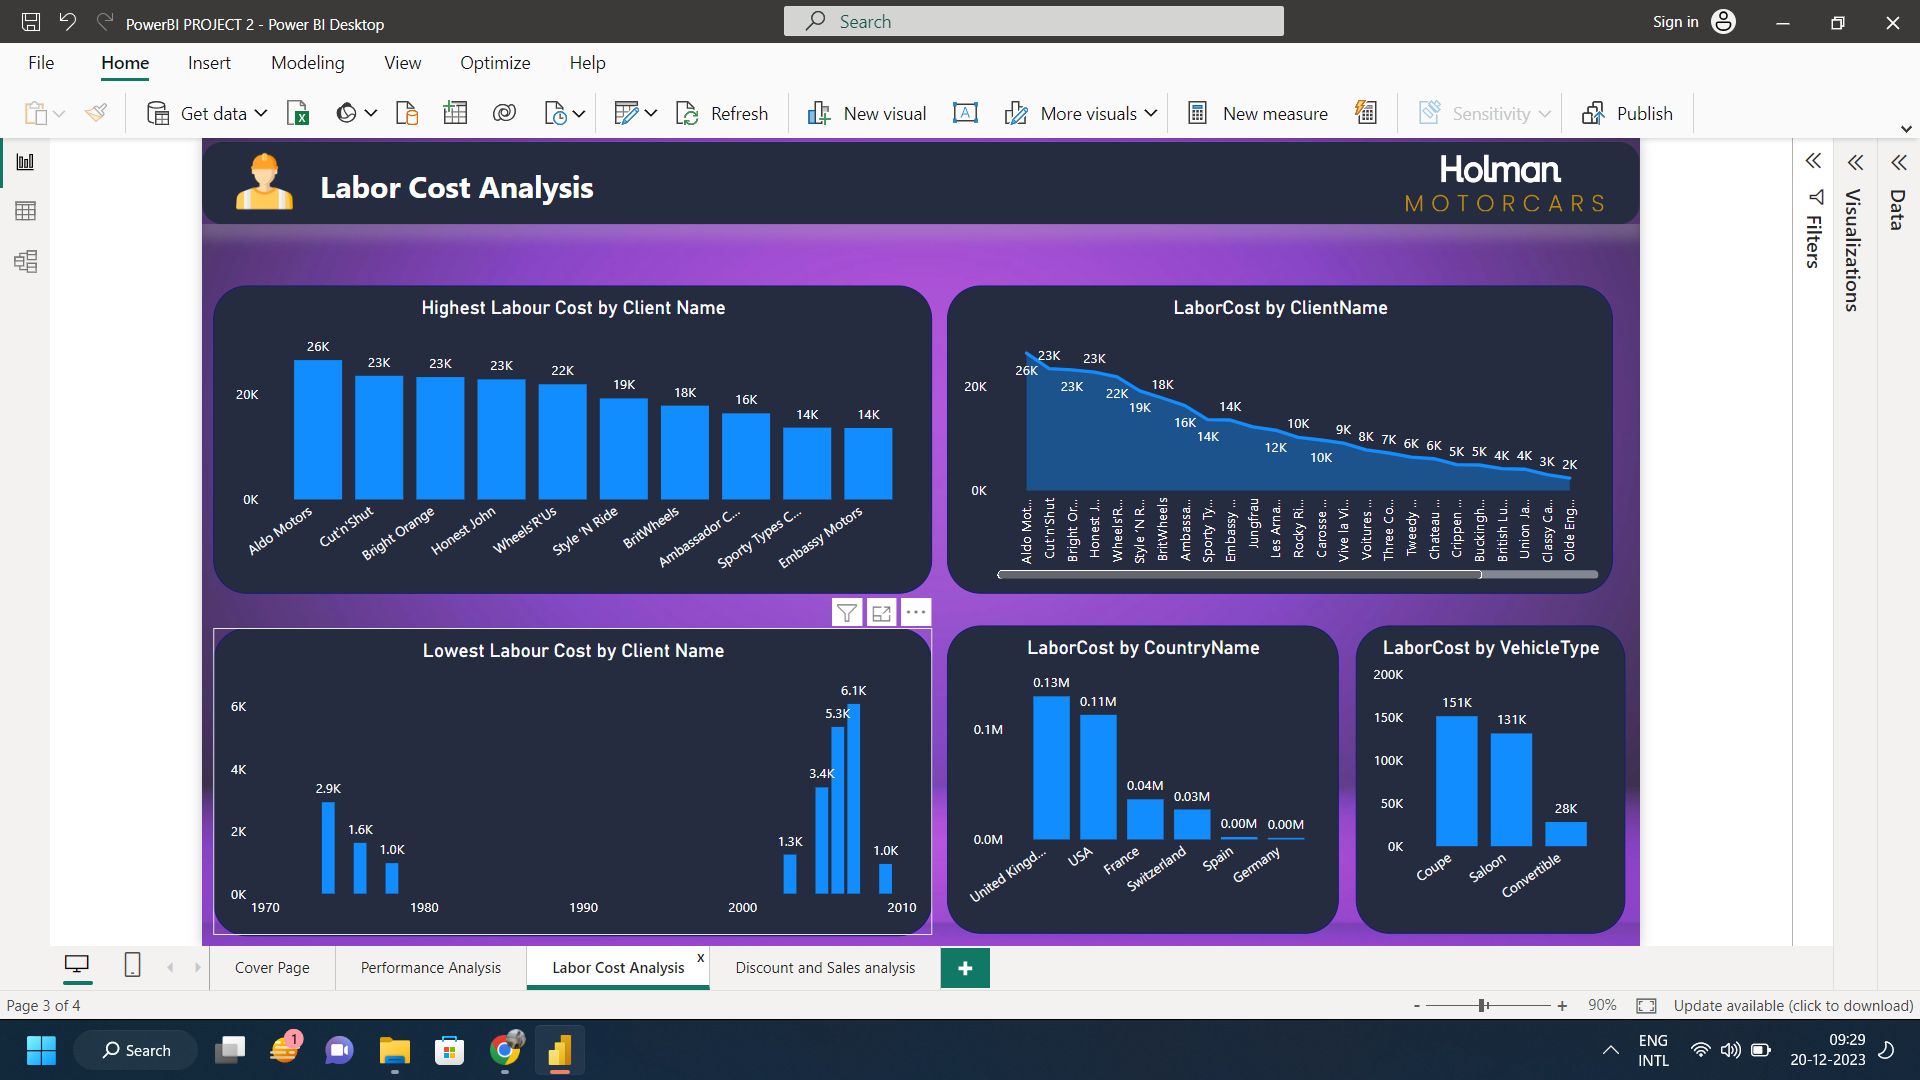

Layout of this report page (visuals, bound fields, positions):
{"tool":"powerbi","page":{"name":"Labor Cost Analysis","canvas":[1280,720],"ordinal":2},"visuals":[{"type":"clusteredColumnChart","title":"Lowest Labour Cost by Client Name","fields":{"Y":["Sum(BaseData.LaborCost)"],"Category":["BaseData.Registration_Date.Variation.Date Hierarchy.Year"]},"box":[10,435.7,640,274.3],"z":0},{"type":"shape","box":[0,3.8,1280,73.8],"z":1000},{"type":"areaChart","fields":{"Y":["Sum(BaseData.LaborCost)"],"Category":["BaseData.ClientName"]},"box":[662.9,131.4,592.9,274.3],"z":2000},{"type":"clusteredColumnChart","title":"Highest Labour Cost by Client Name","fields":{"Category":["BaseData.ClientName"],"Y":["Sum(BaseData.LaborCost)"]},"box":[10,131.4,640,274.3],"z":3000},{"type":"columnChart","fields":{"Category":["BaseData.CountryName"],"Y":["Sum(BaseData.LaborCost)"]},"box":[662.9,434.3,348.6,274.3],"z":4000},{"type":"image","box":[25.7,4.3,60,68.6],"z":5000},{"type":"textbox","box":[100,20,300,70],"z":6000},{"type":"columnChart","fields":{"Y":["Sum(BaseData.LaborCost)"],"Category":["BaseData.VehicleType"]},"box":[1027.1,434.3,240,274.3],"z":7000},{"type":"image","box":[1064.3,10,191.4,60],"z":8000}]}

Visuals, with their boxes on the page's 1280x720 design canvas (x1, y1, x2, y2). These are canvas units, not pixel positions in the 1920x1080 screenshot, which may show the page scaled, cropped or inside an application window:
"Lowest Labour Cost by Client Name" clusteredColumnChart: (left=10, top=436, right=650, bottom=710)
shape: (left=0, top=4, right=1280, bottom=78)
areaChart - Sum(BaseData.LaborCost) x BaseData.ClientName: (left=663, top=131, right=1256, bottom=406)
"Highest Labour Cost by Client Name" clusteredColumnChart: (left=10, top=131, right=650, bottom=406)
columnChart - BaseData.CountryName x Sum(BaseData.LaborCost): (left=663, top=434, right=1012, bottom=709)
image: (left=26, top=4, right=86, bottom=73)
textbox: (left=100, top=20, right=400, bottom=90)
columnChart - Sum(BaseData.LaborCost) x BaseData.VehicleType: (left=1027, top=434, right=1267, bottom=709)
image: (left=1064, top=10, right=1256, bottom=70)
